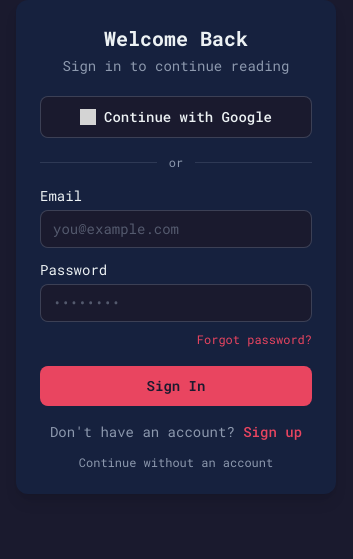
Login Page › Login Flow › shows error message on login failure
In the field labelled "Email": (176, 229) [40,210,312,248], type "test@example.com"
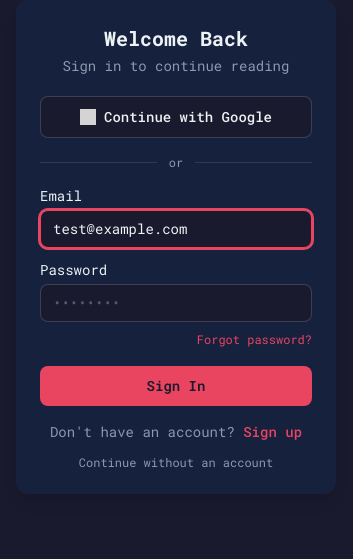
In the password field labelled "Password": (176, 303) [40,284,312,322], type "wrongpassword"
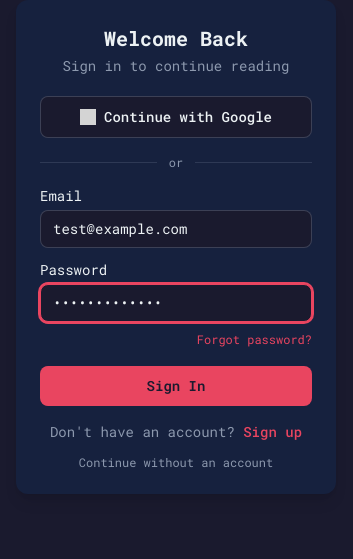
Click the button "Sign In": (176, 386) [40,366,312,406]
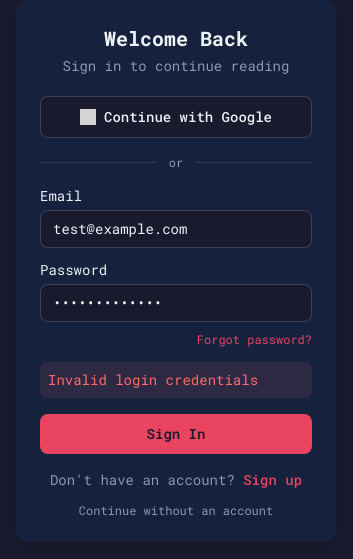
Check: the text "Invalid login credentials" is shown, box [40,362,312,398]
